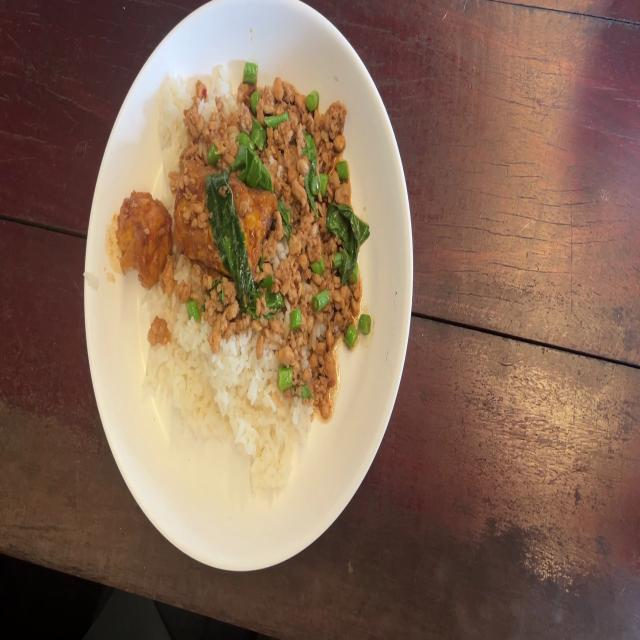01rice: (148, 326, 270, 453), (246, 405, 314, 492), (163, 74, 185, 164), (205, 61, 236, 113)
fried_tofo: (170, 163, 266, 276), (119, 193, 170, 287)
minced_pork: (265, 170, 371, 416), (190, 64, 354, 174), (182, 276, 272, 332)
stir_fried_basil: (117, 59, 370, 499)
